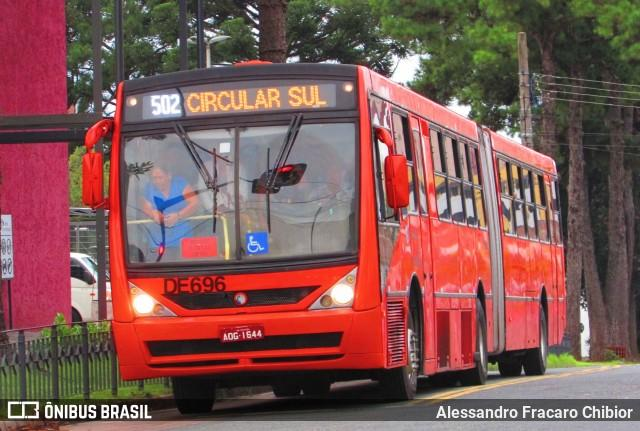CIRCULAR SUL: (181, 81, 330, 117)
